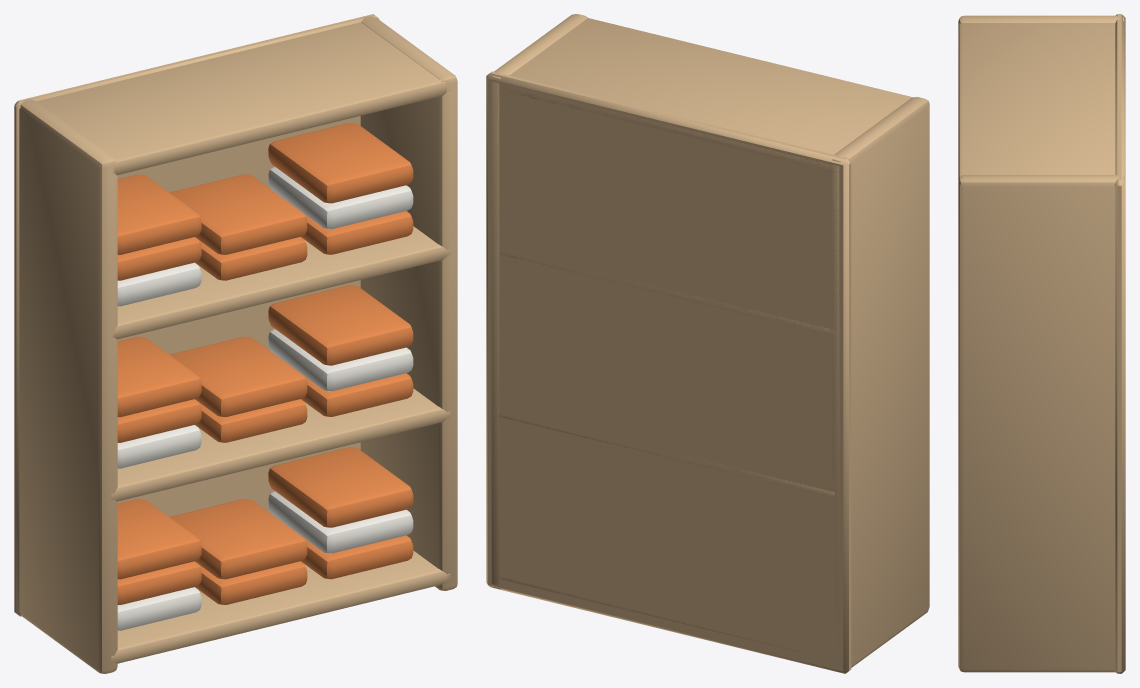
The model's file is clothes_shelf.glb.
3 renders of one model, left to right at view 1: azimuth 30°, elevation 25°; view 2: azimuth 150°, elevation 25°; view 3: azimuth 270°, elevation 25°, orthographic. The views are drawn at different scales.
Visible parts, largest first — view 1: wood, uniform, sheet; view 2: wood; view 3: wood.
Boxes of the visible parts, <box> form: wood: <box>14,14,457,673</box>; uniform: <box>117,123,413,605</box>; sheet: <box>117,167,413,630</box>; wood: <box>486,14,929,673</box>; wood: <box>958,14,1125,673</box>.
Size of the model in its own units: 0.96 by 1.3 by 0.4.
